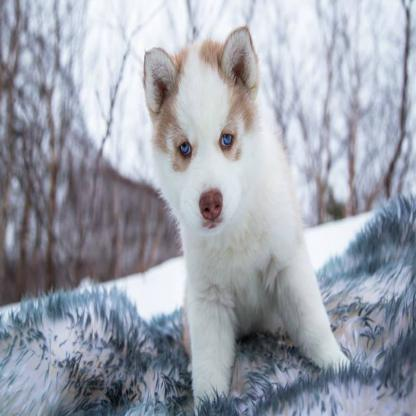husky: (142, 35, 352, 401)
